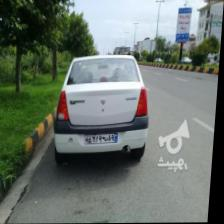plate: (86, 134, 121, 144)
